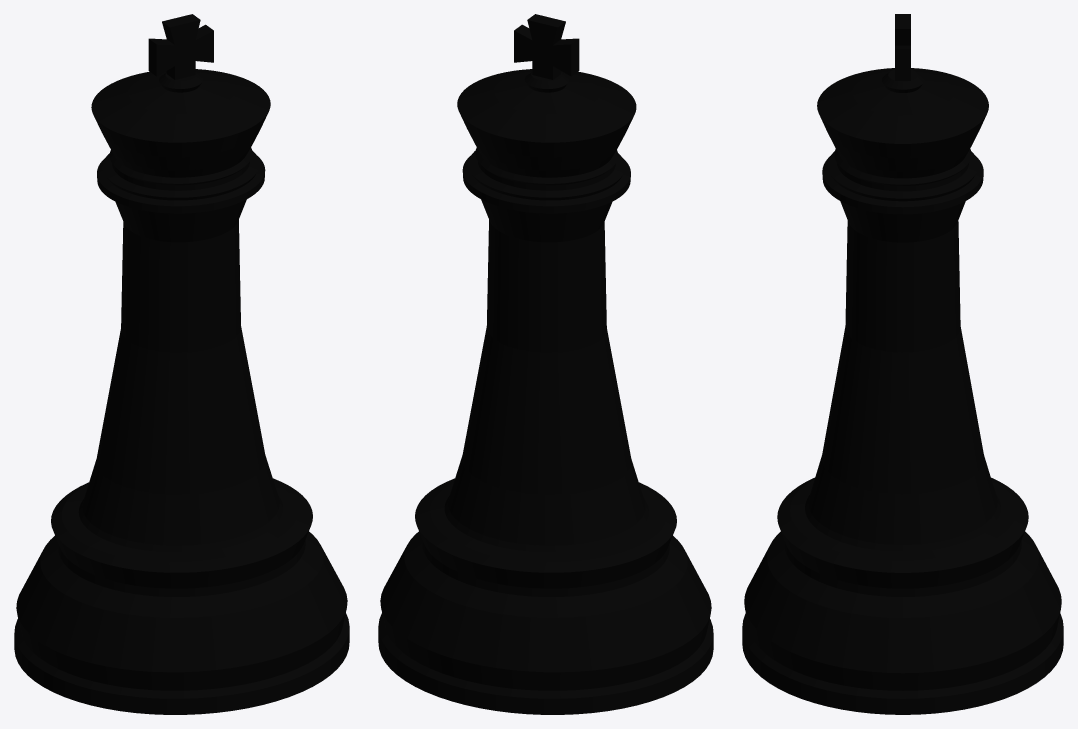
File: KingB.glb
3 renders of one model, left to right at view 1: azimuth 30°, elevation 25°; view 2: azimuth 150°, elevation 25°; view 3: azimuth 270°, elevation 25°, orthographic.
Parts seen in each view (by area): view 1: RookA8; view 2: RookA8; view 3: RookA8.
Boxes of the visible parts, x1,y1,x2,y2 form: RookA8: [14, 14, 349, 714]; RookA8: [378, 14, 713, 714]; RookA8: [742, 14, 1063, 714].
Size of the model in its own units: 1.05 by 2.13 by 0.9981.
1 material, 1 textured.
